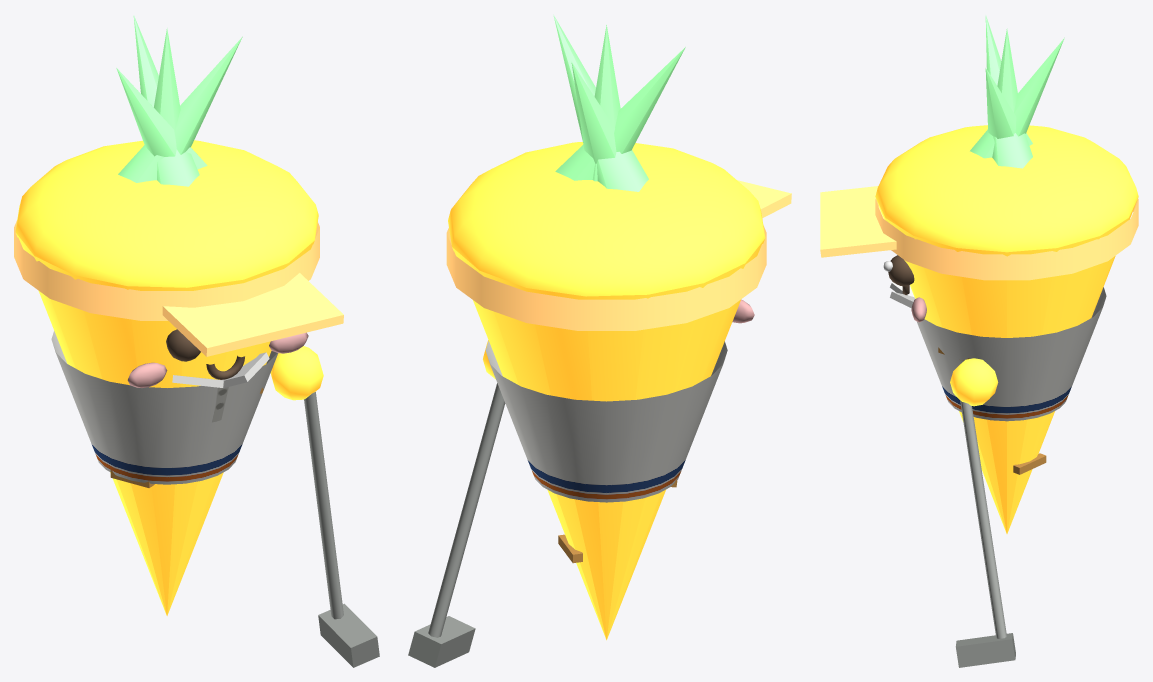
File: carrot-character.glb
3 views of the same model, side by side, from view 1: azimuth 30°, elevation 25°; view 2: azimuth 150°, elevation 25°; view 3: azimuth 270°, elevation 25° (orthographic). The views are drawn at different scales.
Visible parts, largest first — view 1: carrot_cc_carrot; view 2: carrot_cc_carrot; view 3: carrot_cc_carrot.
Part boxes in pixels (<box>): carrot_cc_carrot: <box>14,15,379,667</box>; carrot_cc_carrot: <box>408,14,791,667</box>; carrot_cc_carrot: <box>820,15,1138,667</box>.
Size of the model in its own units: 1.08 by 2.14 by 1.09.
Materials: 13 (1 with a texture image).
